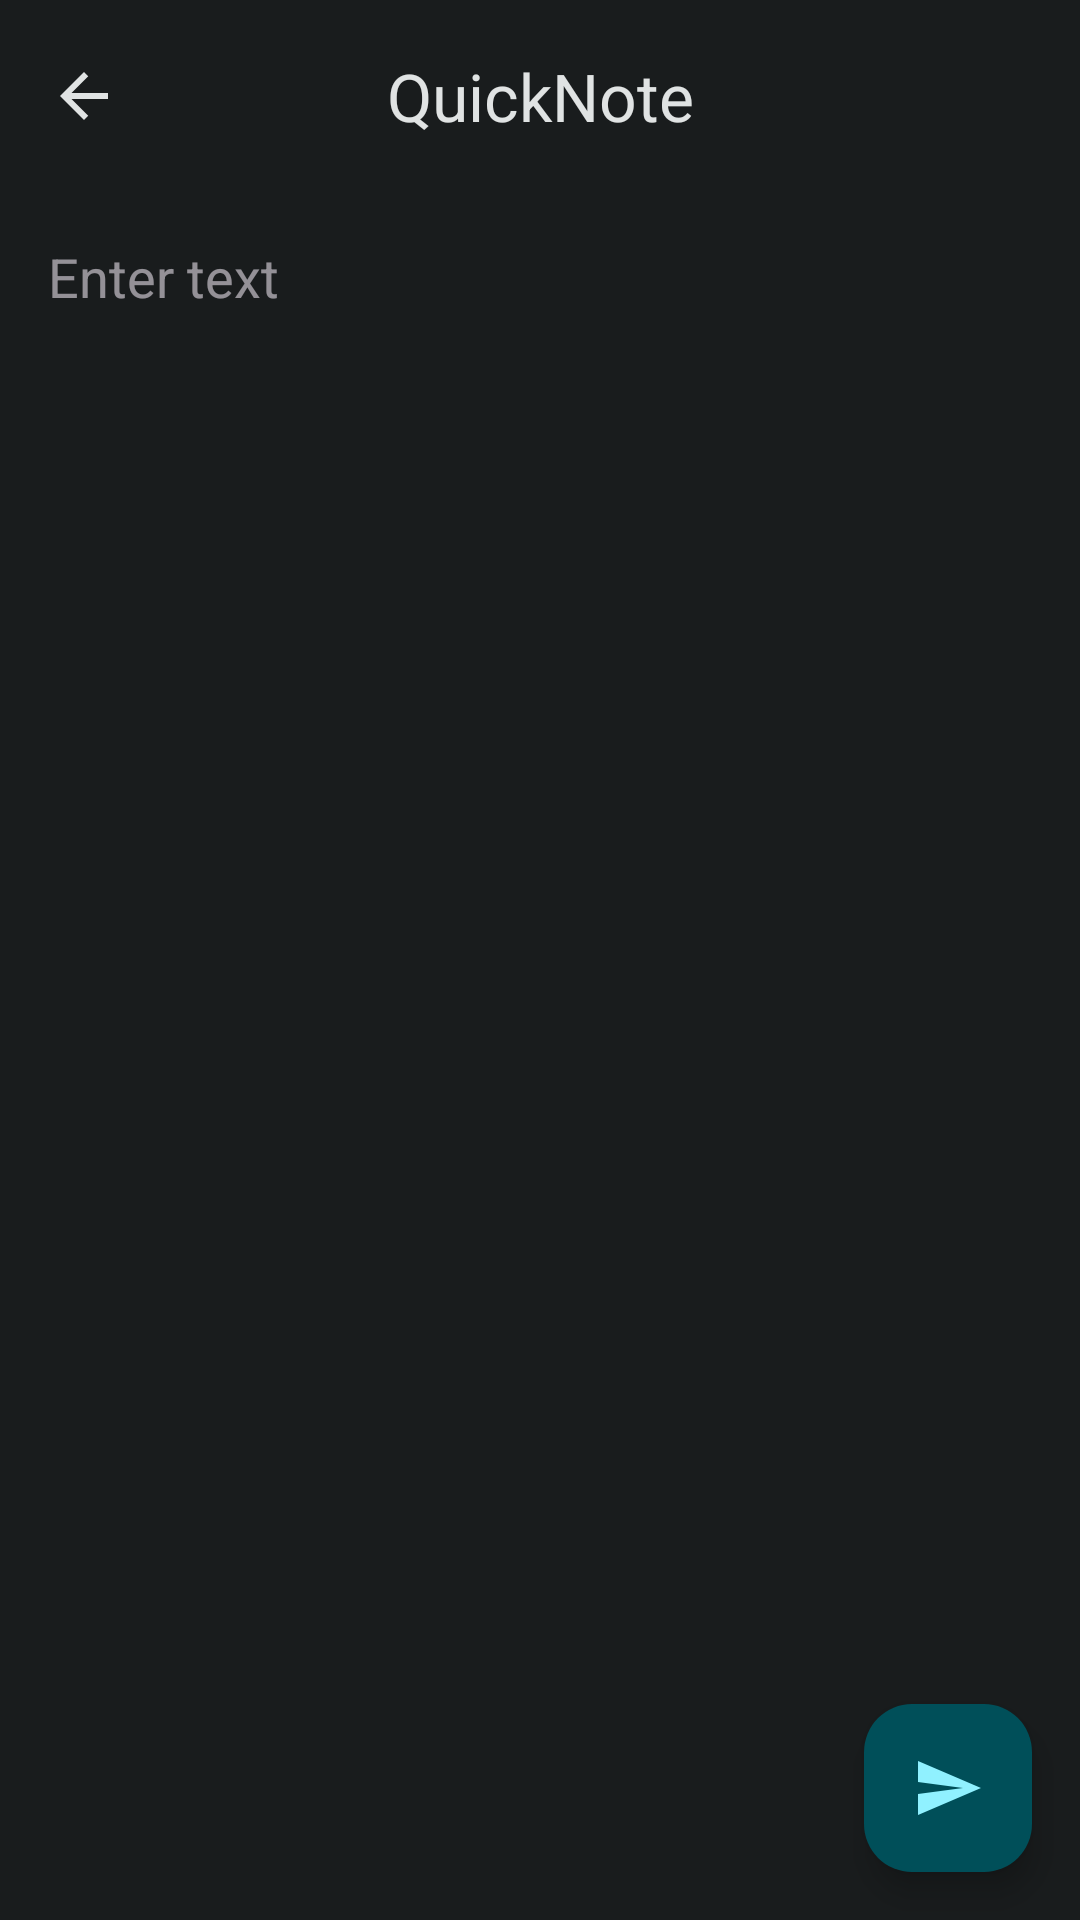

Point at icon controls on the screen. Image size 1080w x 1920h, points as [x,y].
send: [948,1788]
